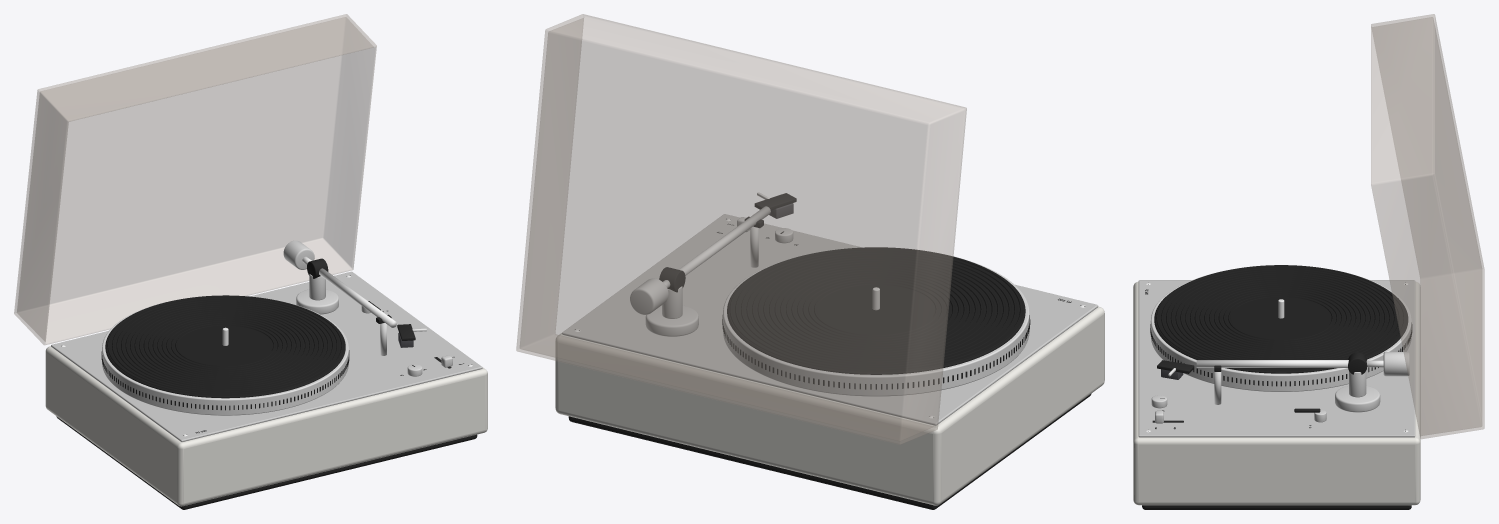
File: turntable.glb
The picture shows the model from 3 angles, left to right: view 1: azimuth 30°, elevation 25°; view 2: azimuth 150°, elevation 25°; view 3: azimuth 270°, elevation 25°; orthographic projection. The views are drawn at different scales.
Parts seen in each view (by area): view 1: Lid, Plinth, Mat, Deck, Platter, Plinth_Base, Tonearm_Tube, Platter_Strobe, Tonearm_Base, Tonearm_Counterweight; view 2: Lid, Plinth, Mat, Deck, Platter, Plinth_Base, Tonearm_Base, Tonearm_Tube, Tonearm_Counterweight, Platter_Strobe; view 3: Lid, Plinth, Mat, Deck, Platter, Plinth_Base, Tonearm_Tube, Tonearm_Base, Tonearm_Counterweight, Platter_Strobe, Tonearm_Post.
Part boxes in pixels (bbox=[...]): Lid: bbox=[14, 14, 376, 344]; Plinth: bbox=[45, 346, 487, 506]; Mat: bbox=[105, 295, 345, 398]; Deck: bbox=[51, 271, 482, 441]; Platter: bbox=[102, 303, 348, 415]; Plinth_Base: bbox=[56, 416, 477, 509]; Tonearm_Tube: bbox=[319, 268, 396, 327]; Platter_Strobe: bbox=[101, 350, 349, 410]; Tonearm_Base: bbox=[296, 289, 338, 314]; Tonearm_Counterweight: bbox=[283, 240, 314, 269]; Lid: bbox=[516, 14, 966, 444]; Plinth: bbox=[555, 306, 1104, 505]; Mat: bbox=[727, 247, 1025, 374]; Deck: bbox=[562, 214, 1098, 425]; Platter: bbox=[723, 256, 1029, 396]; Plinth_Base: bbox=[568, 393, 1091, 509]; Tonearm_Base: bbox=[645, 305, 698, 336]; Tonearm_Tube: bbox=[679, 206, 770, 275]; Tonearm_Counterweight: bbox=[630, 278, 668, 314]; Platter_Strobe: bbox=[722, 315, 1030, 389]; Lid: bbox=[1371, 14, 1484, 438]; Plinth: bbox=[1133, 281, 1420, 505]; Mat: bbox=[1154, 265, 1408, 373]; Deck: bbox=[1138, 280, 1415, 437]; Platter: bbox=[1150, 271, 1411, 391]; Plinth_Base: bbox=[1142, 505, 1411, 509]; Tonearm_Tube: bbox=[1196, 360, 1348, 367]; Tonearm_Base: bbox=[1335, 386, 1380, 412]; Tonearm_Counterweight: bbox=[1383, 352, 1409, 376]; Platter_Strobe: bbox=[1150, 323, 1412, 386]; Tonearm_Post: bbox=[1349, 371, 1366, 397].
Size of the model in its own units: 0.435 by 0.4388 by 0.4036.
